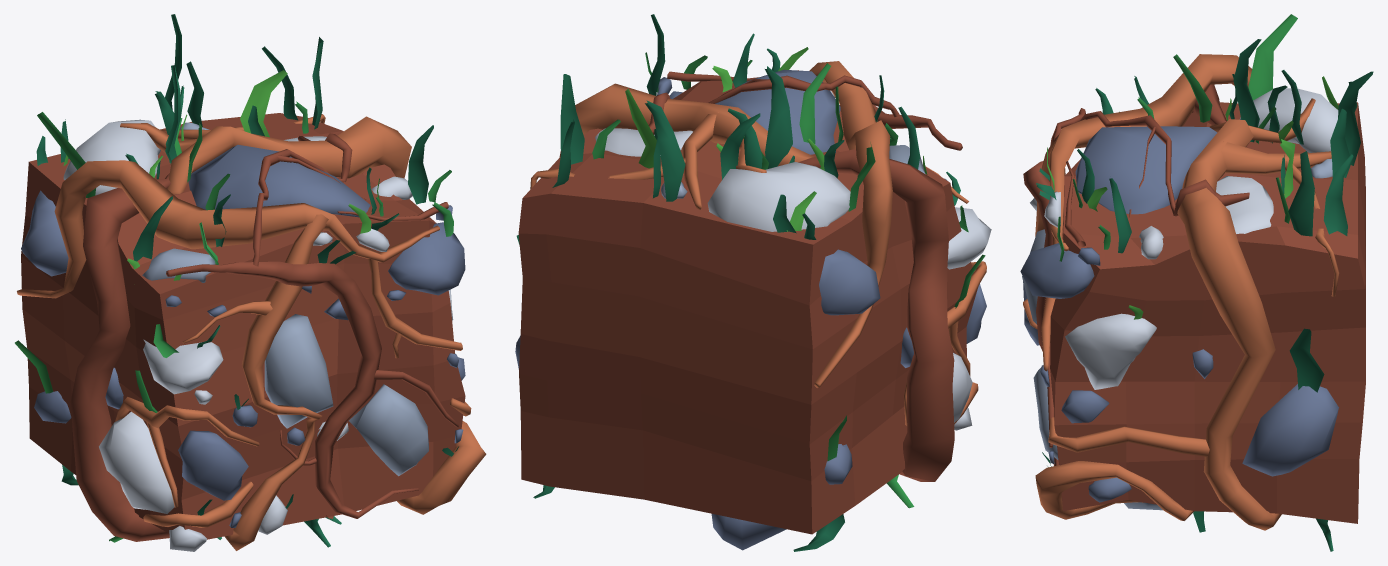
Rendered from omniTile.glb.
The picture shows the model from 3 angles, left to right: view 1: azimuth 30°, elevation 25°; view 2: azimuth 150°, elevation 25°; view 3: azimuth 270°, elevation 25°; orthographic projection. The views are drawn at different scales.
Parts seen in each view (by area): view 1: all; view 2: all; view 3: all.
Part boxes in pixels (left/top/right/bottom): all: left=15, top=14, right=486, bottom=551; all: left=515, top=14, right=991, bottom=551; all: left=1020, top=14, right=1373, bottom=551.
Size of what is drawn, in the model's own units: 2.59 by 3.06 by 2.24.
Materials: 1 (1 with a texture image).
